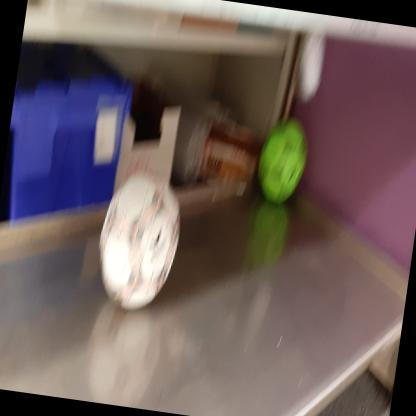ball: (90, 166, 187, 316), (252, 115, 312, 206)
